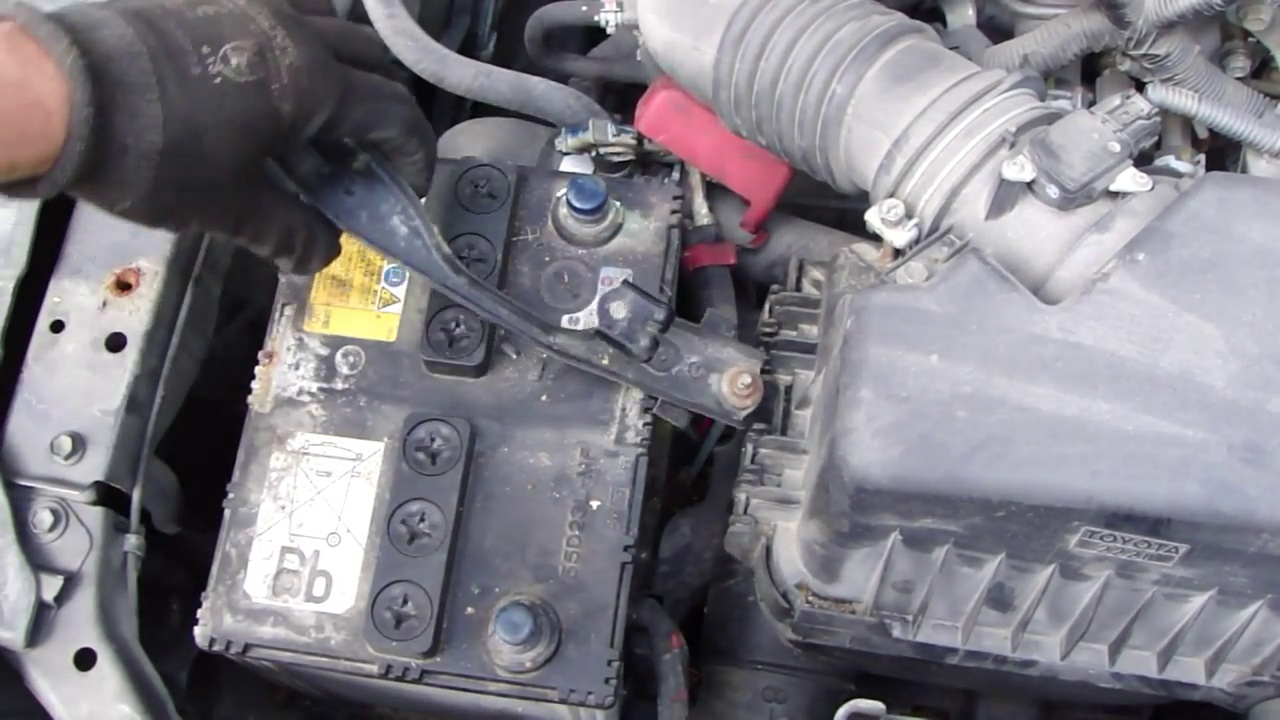battery: (210, 135, 682, 709)
neg_disconnected: (449, 553, 610, 694)
pos_disconnected: (537, 93, 785, 290)
